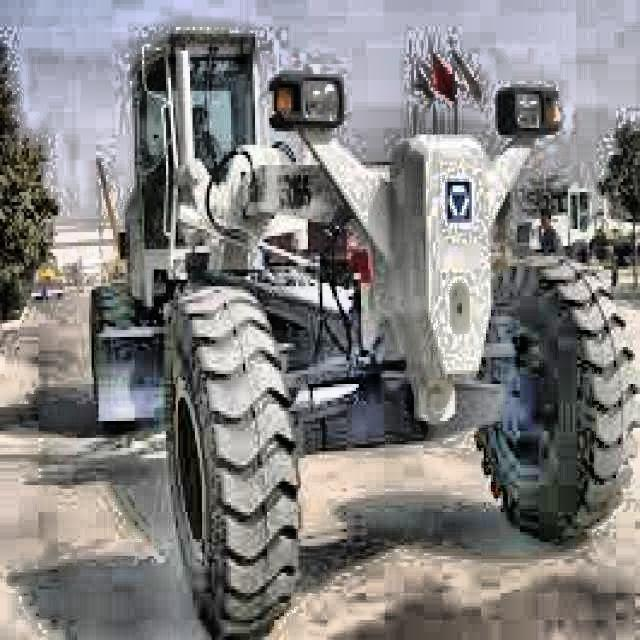bull_dozer/loader/grader: (89, 27, 640, 640), (511, 182, 621, 270), (94, 152, 129, 279), (32, 248, 68, 306)
person: (182, 100, 245, 184), (530, 206, 568, 270), (39, 275, 50, 304)
